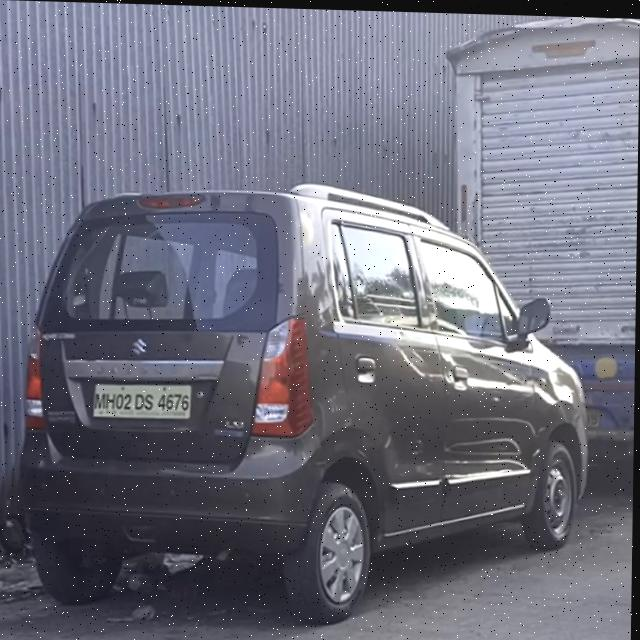plate: (94, 381, 193, 421)
